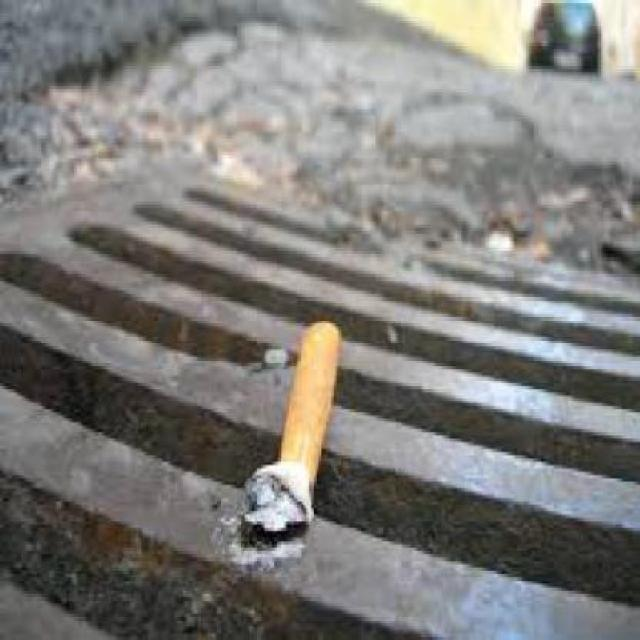cigarette: (242, 307, 361, 558)
